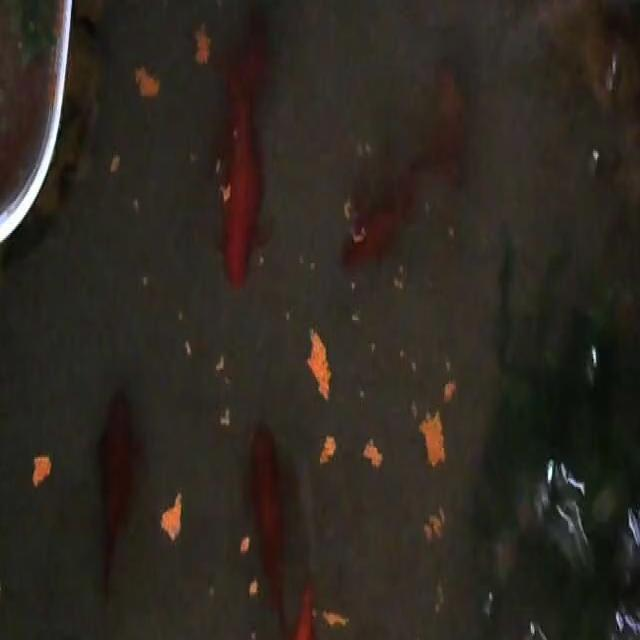fish: (213, 6, 272, 291), (96, 387, 143, 598), (246, 420, 290, 632), (340, 174, 412, 268), (271, 581, 321, 640)
